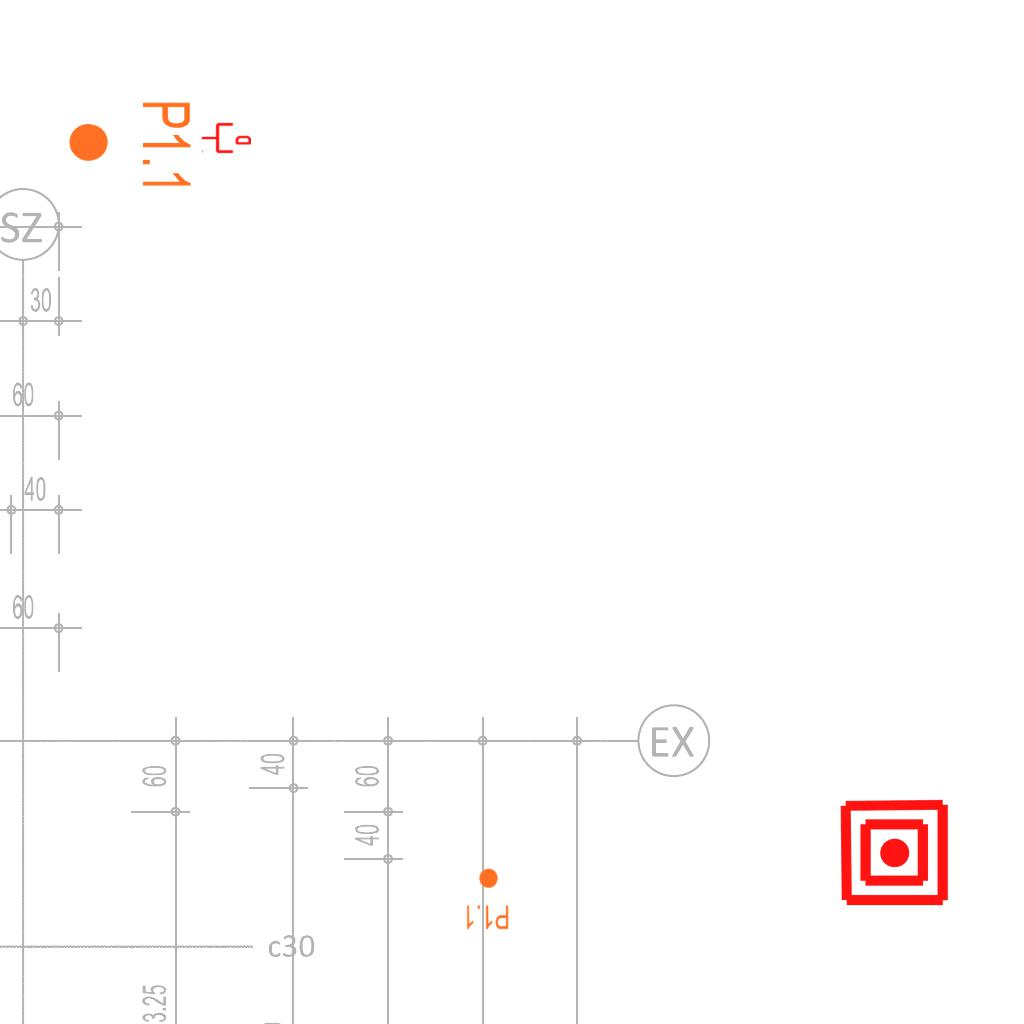Datenanschluss_einfach: (201, 121, 251, 155)
Downlight_LED_Einbauleuchten_Flur: (66, 99, 194, 192), (464, 867, 510, 931)
NAM-Nichtautomatischer_Melder: (838, 796, 951, 909)
